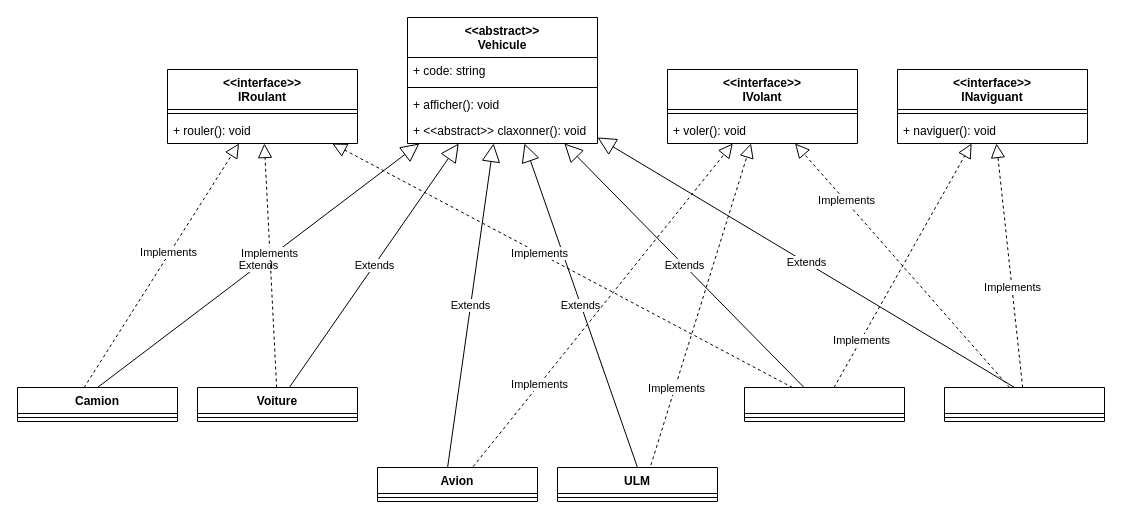
Some shapes in this 1122 by 519 pixel diagram are drawn without their labels. Each missing label, with the box of its shape:
Amphibie: (744, 386, 904, 422)
Hovercraft: (944, 386, 1104, 422)
